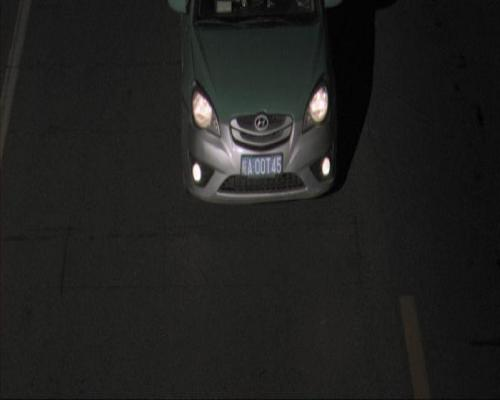Carplate: (236, 149, 285, 181)
